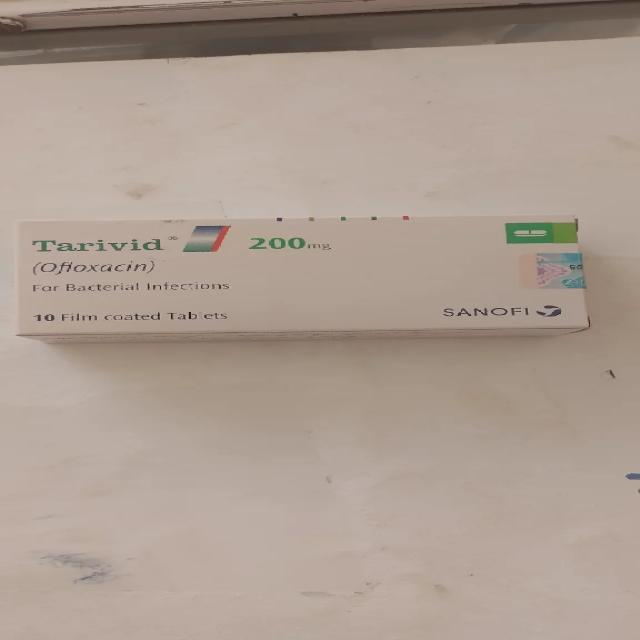drug-name: (32, 240, 165, 252)
